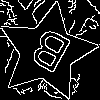B: (22, 27, 74, 83)
